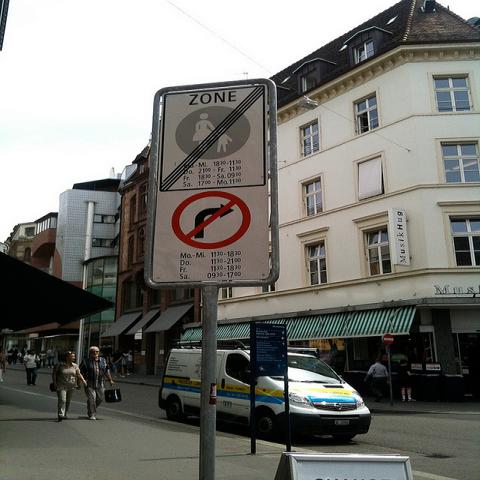truck: (160, 348, 374, 446)
